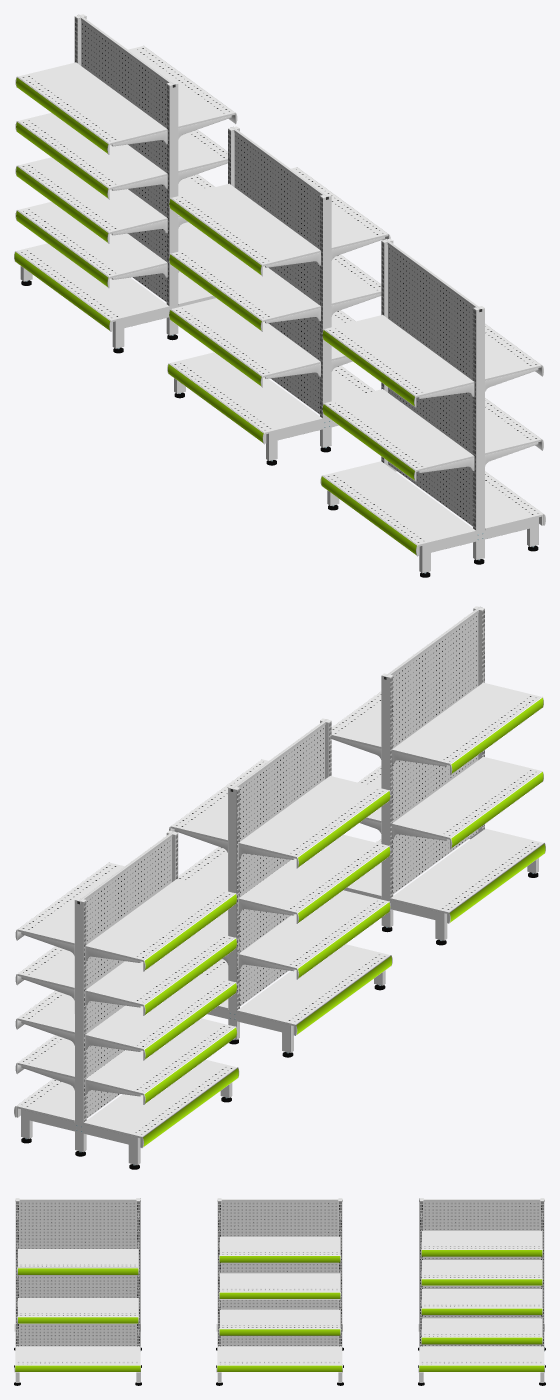
The model's file is shelves.fbx.
3 views of the same model, one above another, from view 1: azimuth 30°, elevation 25°; view 2: azimuth 150°, elevation 25°; view 3: azimuth 270°, elevation 25° (orthographic). The views are drawn at different scales.
Parts seen in each view (by area): view 1: grocery_shelf_base.002, grocery_shelf_base.001, grocery_shelf_base, grocery_shelves004, grocery_shelves003.001, grocery_shelves001.002, grocery_shelves002.002, grocery_shelves002.001, grocery_shelves003, grocery_shelves001.001, grocery_shelves001, grocery_shelves002; view 2: grocery_shelf_base.002, grocery_shelf_base.001, grocery_shelf_base, grocery_shelves004, grocery_shelves003.001, grocery_shelves002.002, grocery_shelves002.001, grocery_shelves001, grocery_shelves003, grocery_shelves002, grocery_shelves001.002, grocery_shelves001.001; view 3: grocery_shelf_base.002, grocery_shelf_base.001, grocery_shelf_base, grocery_shelves002.002, grocery_shelves001, grocery_shelves002, grocery_shelves002.001, grocery_shelves004, grocery_shelves001.001, grocery_shelves003.001, grocery_shelves003, grocery_shelves001.002.
Part boxes in pixels (x1,y1,x2,y2): grocery_shelf_base.002: (320,238,545,577); grocery_shelf_base.001: (167,126,374,465); grocery_shelf_base: (14,14,215,353); grocery_shelves004: (15,45,237,154); grocery_shelves003.001: (169,167,390,276); grocery_shelves001.002: (322,389,543,481); grocery_shelves002.002: (322,315,543,407); grocery_shelves002.001: (169,242,381,331); grocery_shelves003: (15,113,227,199); grocery_shelves001.001: (169,298,355,387); grocery_shelves001: (15,201,215,288); grocery_shelves002: (15,157,214,243); grocery_shelf_base.002: (343,606,545,945); grocery_shelf_base.001: (202,718,392,1057); grocery_shelf_base: (14,830,239,1169); grocery_shelves004: (15,862,237,971); grocery_shelves003.001: (169,759,390,868); grocery_shelves002.002: (331,682,543,775); grocery_shelves002.001: (178,834,390,923); grocery_shelves001: (15,1018,237,1104); grocery_shelves003: (15,929,237,1015); grocery_shelves002: (15,974,237,1060); grocery_shelves001.002: (358,756,543,849); grocery_shelves001.001: (201,890,390,979); grocery_shelf_base.002: (14,1198,141,1385); grocery_shelf_base.001: (216,1198,343,1385); grocery_shelf_base: (418,1198,545,1385); grocery_shelves002.002: (17,1249,138,1275); grocery_shelves001: (421,1318,542,1344); grocery_shelves002: (421,1289,542,1315); grocery_shelves002.001: (219,1273,340,1299); grocery_shelves004: (421,1230,542,1256); grocery_shelves001.001: (219,1309,340,1335); grocery_shelves003.001: (219,1236,340,1262); grocery_shelves003: (421,1260,542,1285); grocery_shelves001.002: (17,1298,138,1323).
Bounding box in the file's own units: 73.26 × 137 × 395.
Materials: 2 (1 with a texture image).
